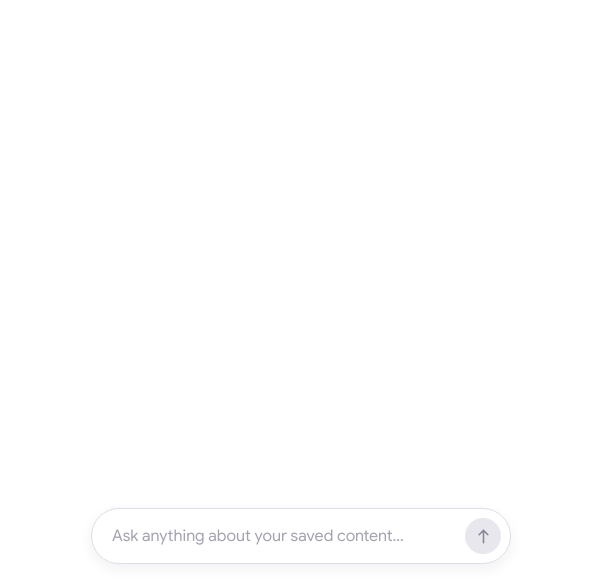
Test: questions and sources › sends a suggestion and keeps citation targets unique across answers
Click the text box: point(282, 536) [112,516,453,556]
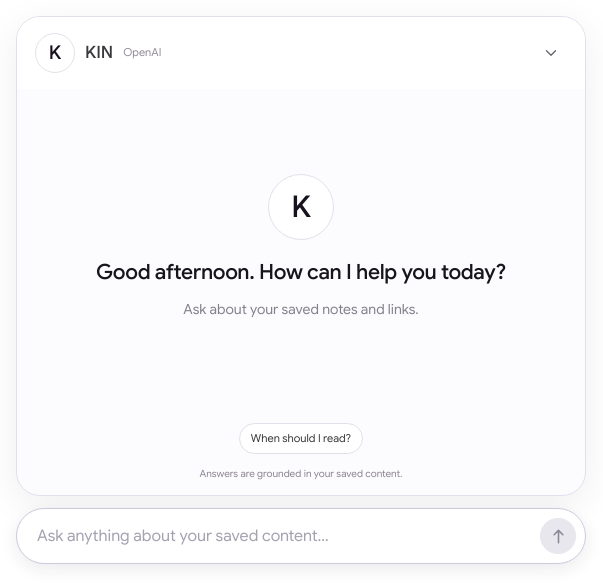
Click the button "When should I read?": point(301, 438) [239,423,363,454]
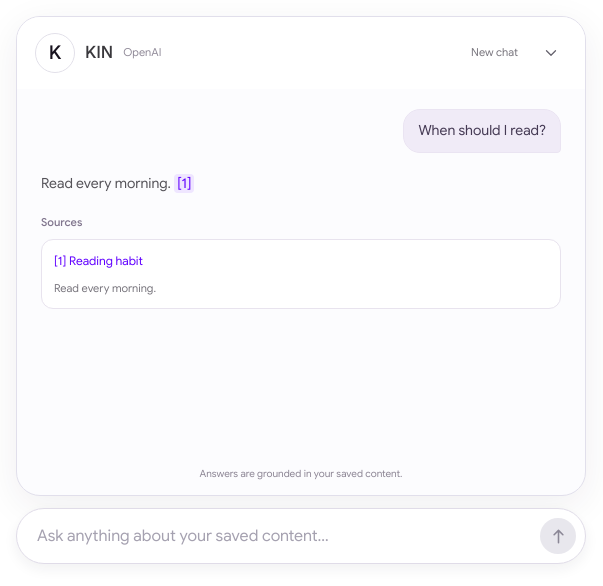
Expected: the link named "View source 1" is shown, [174,174,194,193]
In the text box: point(282, 536) [37,516,528,556], type "When should I read again?"
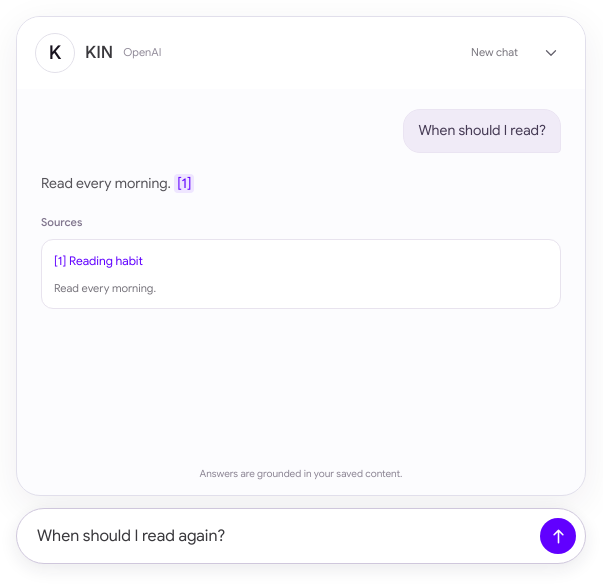
Press Enter
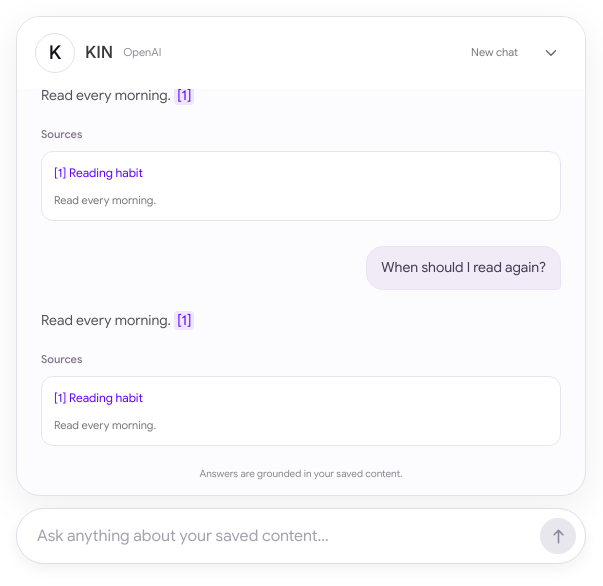
Expected: the number of links named "View source 1" is 2, [174,89,194,105]; [174,311,194,330]
